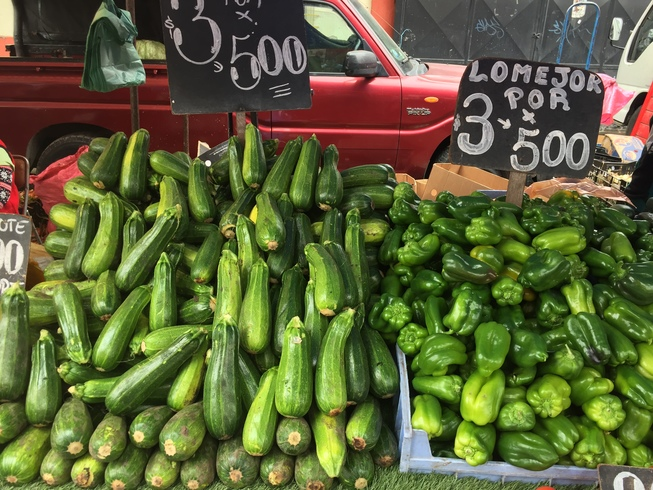precio: (443, 53, 610, 181), (159, 1, 315, 119), (1, 210, 38, 304)
